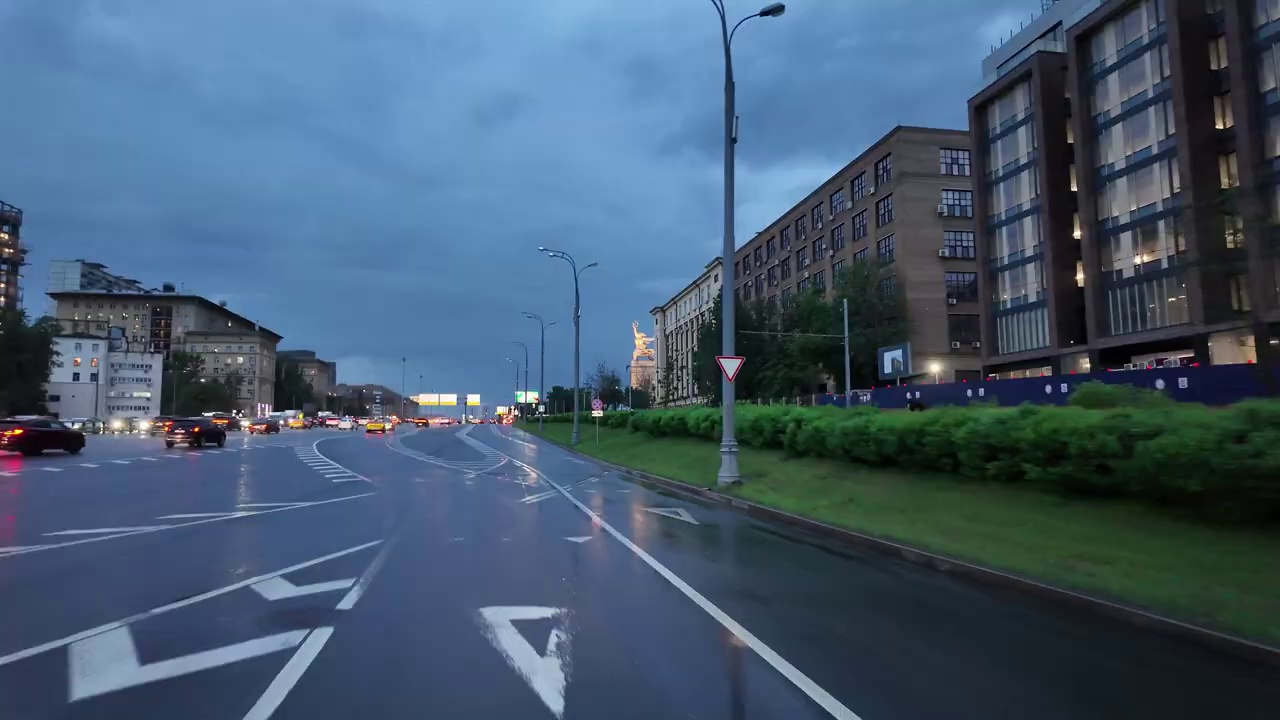apagada: (755, 1, 786, 24), (537, 244, 563, 267)
